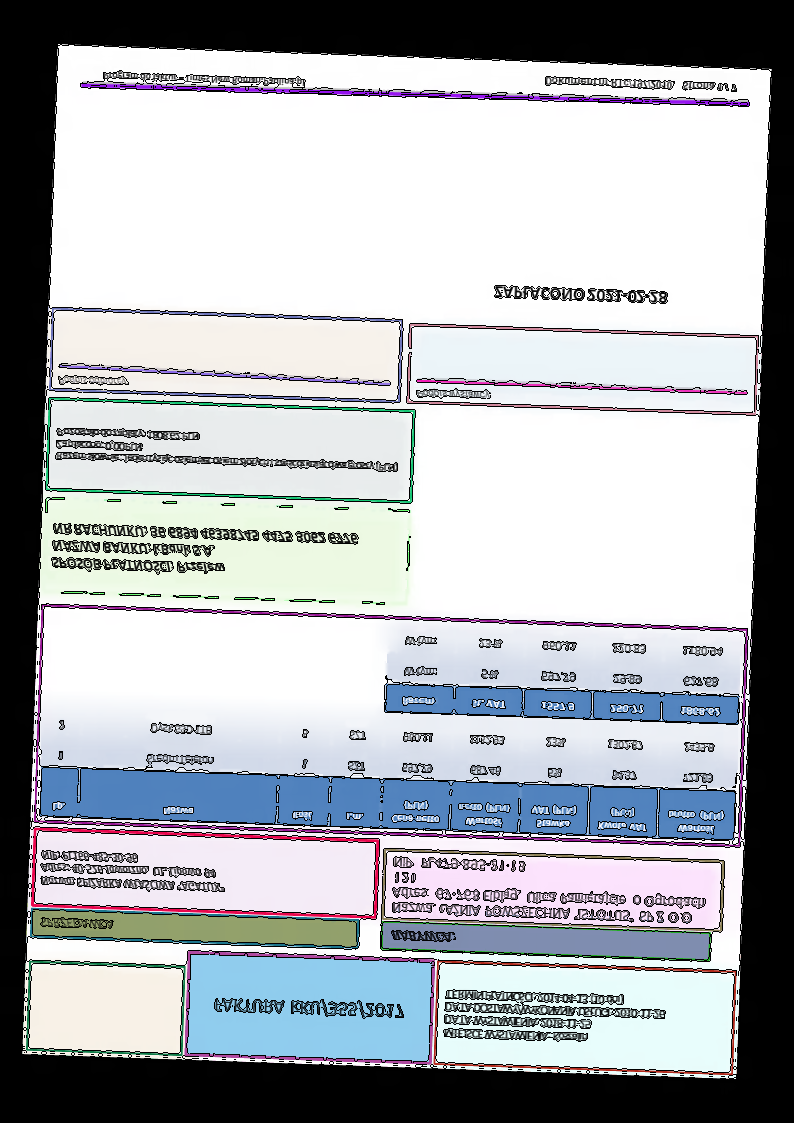Table: (38, 704, 739, 842), (384, 620, 744, 726)
TextBox: (388, 854, 707, 928), (48, 517, 359, 586), (54, 424, 403, 477), (441, 986, 666, 1050), (38, 848, 227, 895), (212, 993, 406, 1022), (99, 68, 308, 90), (493, 283, 669, 308), (543, 74, 742, 96), (36, 914, 118, 935), (414, 384, 495, 403), (55, 372, 130, 391), (389, 927, 458, 947)
